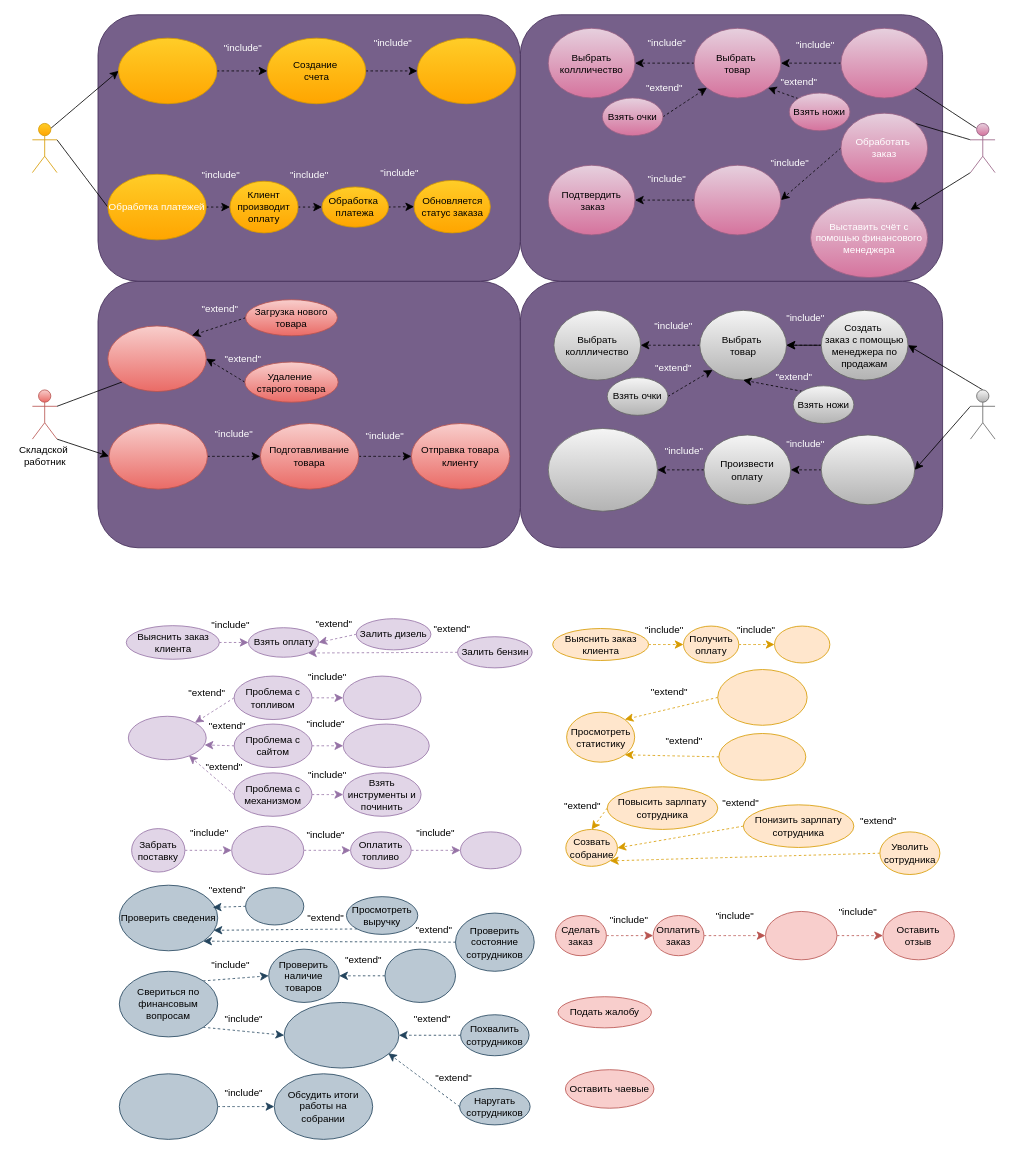
Some shapes in this 1027 by 1154 pixel diagram are drawn without their labels. The shapes that lost their labels are listed below. From the top down, each one's box as (x1, y1, x2, y2) in pixels, then its label:
(118, 37, 217, 104): Выставление счета
(417, 37, 516, 104): Отправка счета клиенту на оплату
(840, 27, 928, 98): Создать заказ
(32, 123, 57, 173): Финансовый менеджер
(970, 123, 995, 173): Менеджер по продажам
(693, 164, 781, 235): Проверить доступность товаров
(107, 325, 206, 392): Управление запасами
(970, 389, 995, 439): Клиент
(108, 423, 207, 489): Отгрузка товара
(547, 428, 657, 511): Дождаться обновления статуса заказа складским работником
(820, 434, 915, 505): Обработка платежей с помощью финансового менеджера
(774, 625, 830, 663): Продать товар
(342, 675, 421, 720): Доложить бухгалтеру
(717, 669, 807, 725): Распределить товары на новые места
(128, 715, 206, 760): Проверить оборудование
(342, 723, 429, 768): Доложить администратору
(718, 733, 806, 780): Оплатить рекламу товара
(231, 825, 304, 875): Встретить поставщика топлива
(460, 831, 521, 869): Забрать топливо
(245, 887, 304, 925): Прочитать жалобы
(765, 911, 837, 960): Дождаться завершения работ
(384, 948, 456, 1002): Заказать новую поставку
(283, 1002, 399, 1068): Сравнить кассовые сборы за ближайшую неделю
(118, 1073, 218, 1139): Составить отчёт о работе всего предприятия
